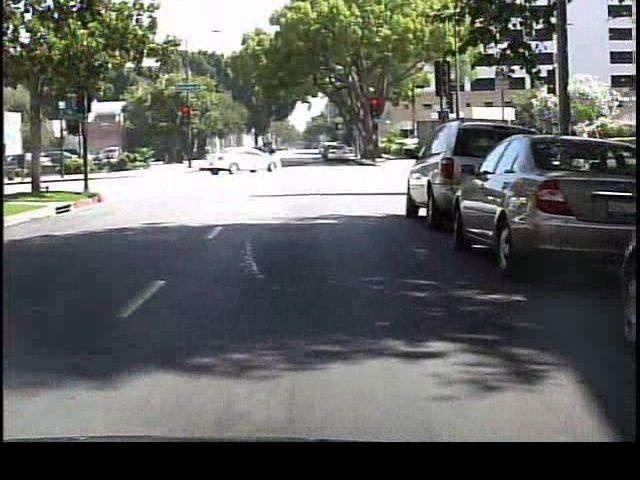person: (267, 140, 282, 171)
